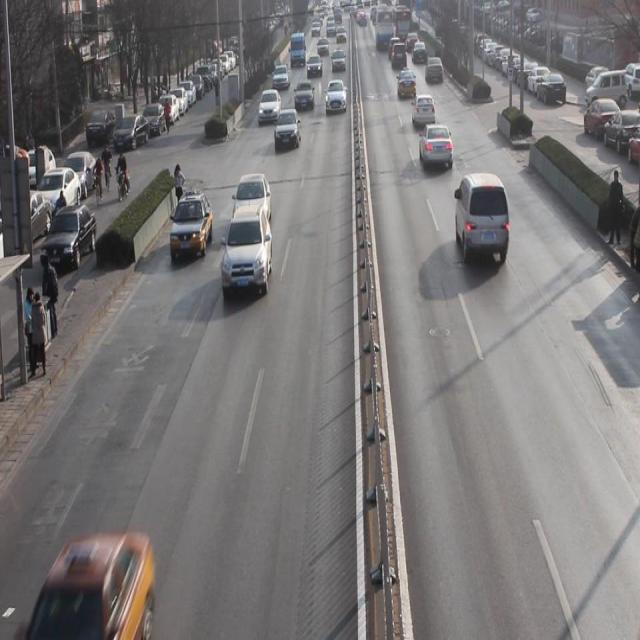car: (29, 540, 154, 640), (222, 211, 272, 306), (171, 193, 213, 264), (232, 172, 273, 230), (419, 121, 454, 174), (275, 107, 300, 153), (259, 87, 280, 129), (412, 94, 435, 132), (395, 66, 418, 101), (324, 79, 346, 114), (293, 81, 315, 111)
truck: (454, 174, 511, 269)
